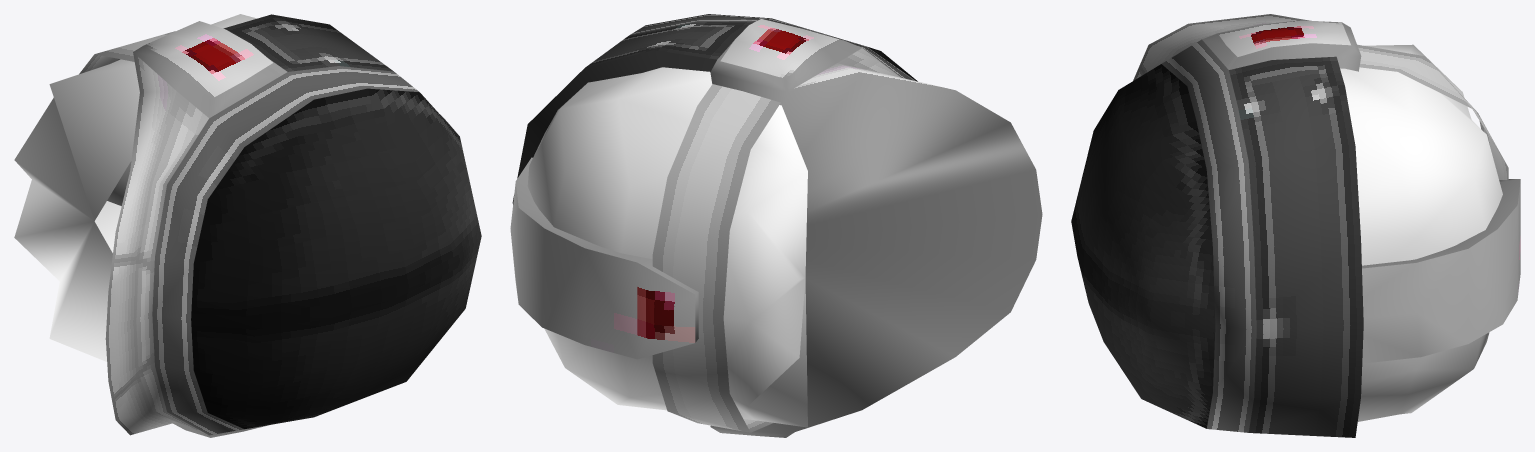
File: hlmt_fencing_mask.dae
The picture shows the model from 3 angles, left to right: view 1: azimuth 30°, elevation 25°; view 2: azimuth 150°, elevation 25°; view 3: azimuth 270°, elevation 25°; orthographic projection.
Parts seen in each view (by area): view 1: hlmt_fencing_mask; view 2: hlmt_fencing_mask; view 3: hlmt_fencing_mask.
Part boxes in pixels (<box>): hlmt_fencing_mask: <box>14,14,481,437</box>; hlmt_fencing_mask: <box>510,14,1042,437</box>; hlmt_fencing_mask: <box>1071,14,1520,437</box>.
Bounding box in the file's own units: 27.34 × 23.68 × 25.69.
3 materials, 3 textured.
